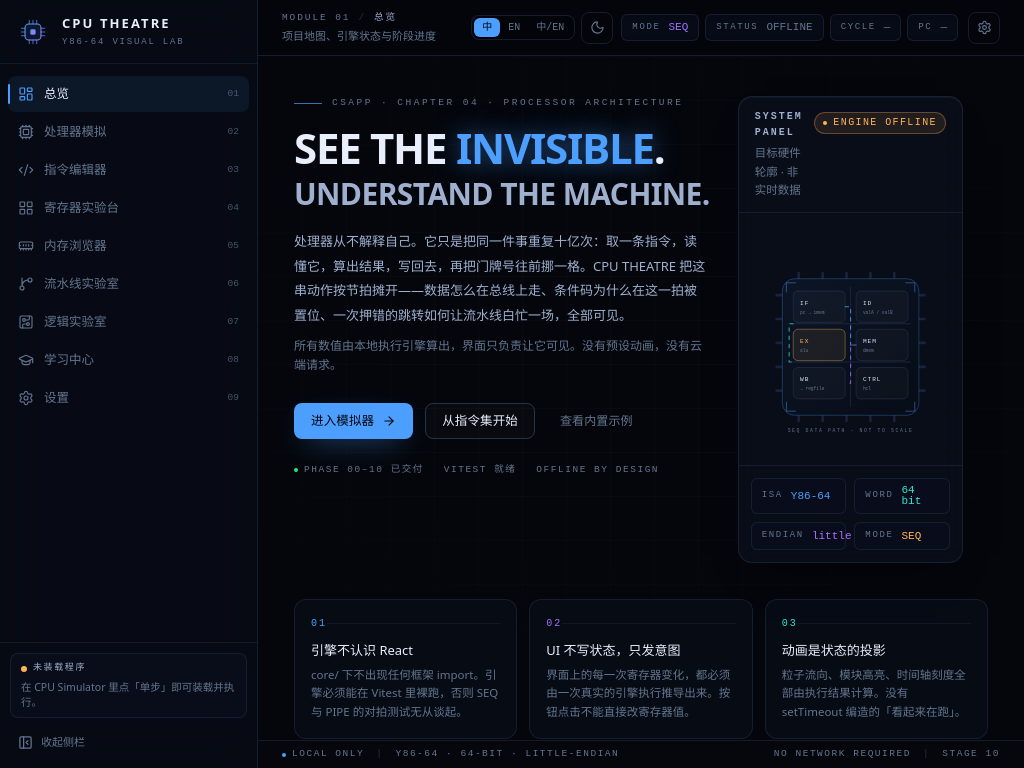
Test: 应用外壳与路由 › 点击侧栏可以切到流水线实验室
Click the link "流水线实验室 06": {"x": 82, "y": 284} [18,275,239,292]
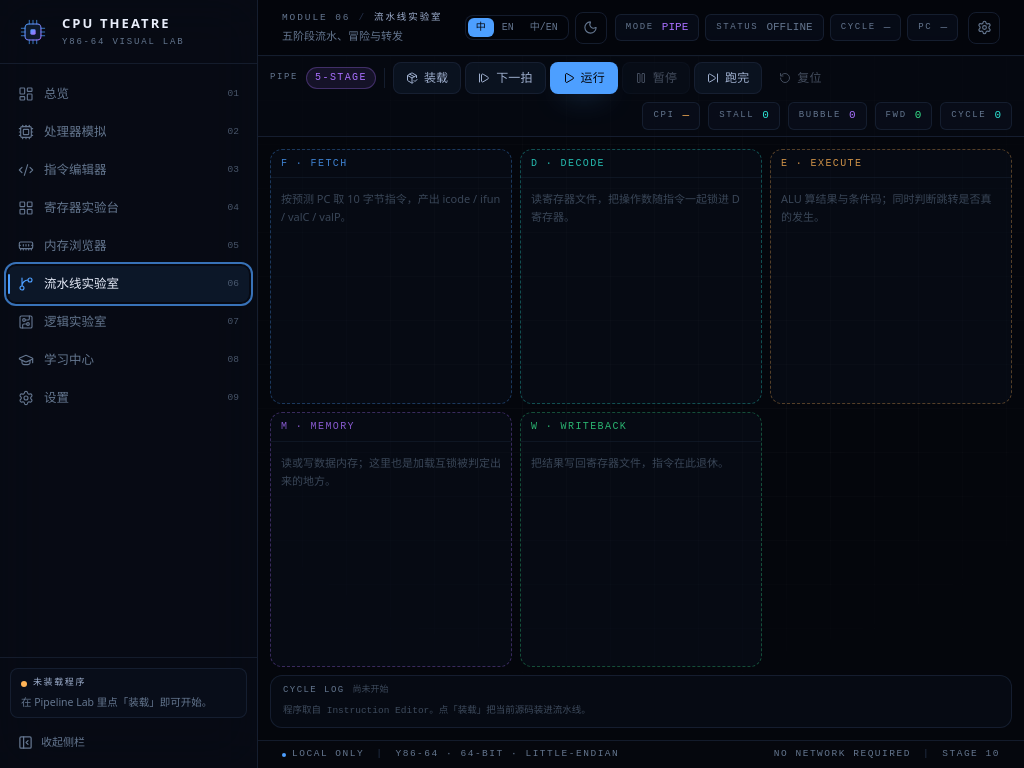
Check: the text "5-stage" is shown, box [306,67,376,89]
